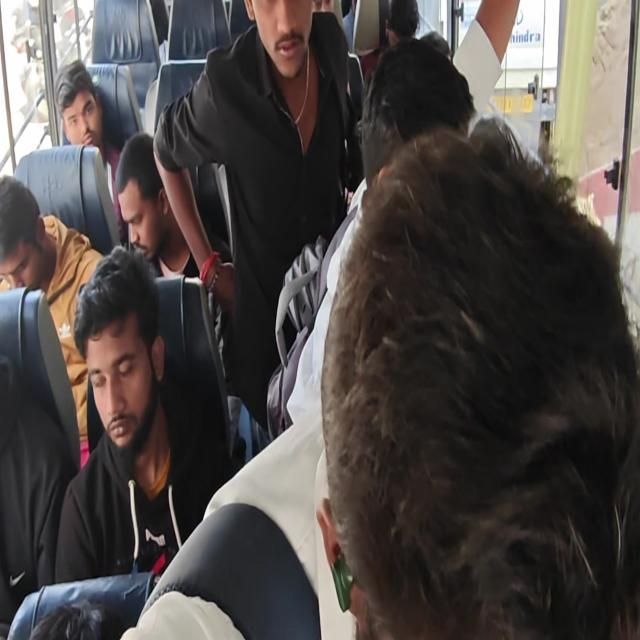person: (120, 1, 521, 637), (315, 117, 639, 638), (152, 0, 362, 444), (268, 36, 476, 440), (54, 242, 228, 585), (0, 174, 105, 468), (114, 131, 235, 344), (54, 59, 128, 246), (114, 131, 199, 280)
